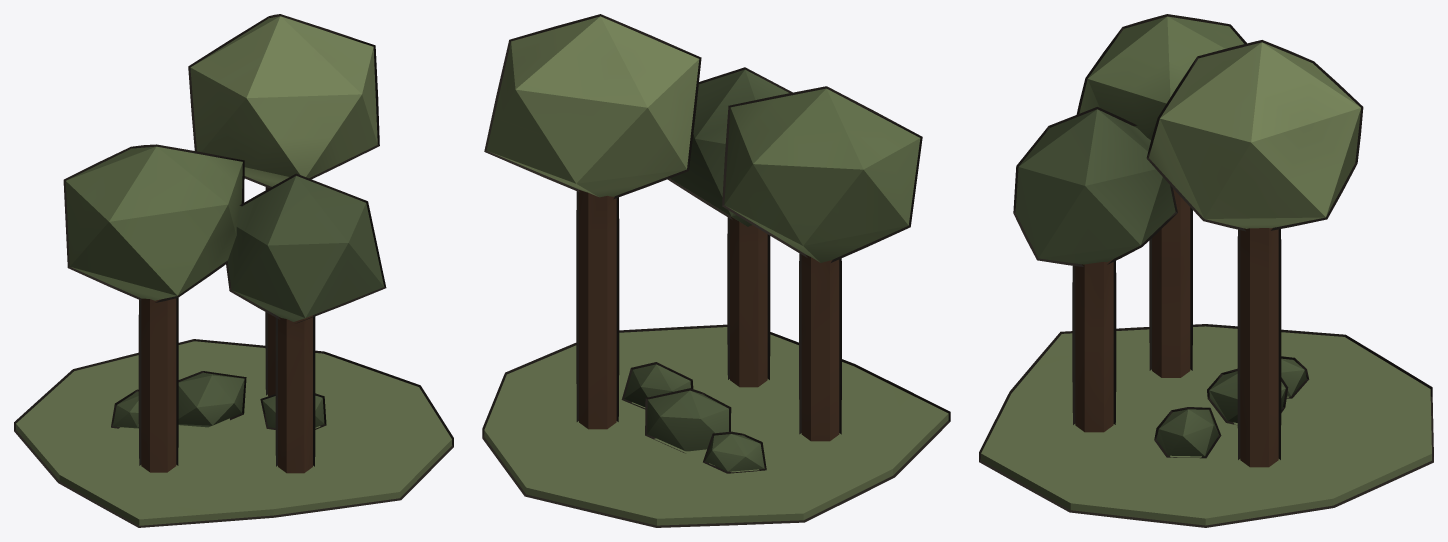
File: bosquet.glb
3 renders of one model, left to right at view 1: azimuth 30°, elevation 25°; view 2: azimuth 150°, elevation 25°; view 3: azimuth 270°, elevation 25°, orthographic. The views are drawn at different scales.
Visible parts, largest first — view 1: bosquet, bosquet_outline; view 2: bosquet, bosquet_outline; view 3: bosquet, bosquet_outline.
Boxes of the visible parts, x1,y1,x2,y2 form: bosquet: (16, 16, 451, 525); bosquet_outline: (14, 14, 453, 527); bosquet: (484, 16, 948, 525); bosquet_outline: (482, 14, 950, 527); bosquet: (981, 16, 1431, 525); bosquet_outline: (979, 14, 1433, 527).
Size of the model in its own units: 2.41 by 2.48 by 2.37.
